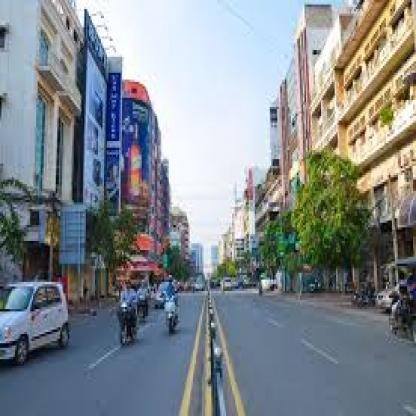car: (0, 260, 73, 378), (114, 281, 146, 359), (158, 278, 186, 336)
